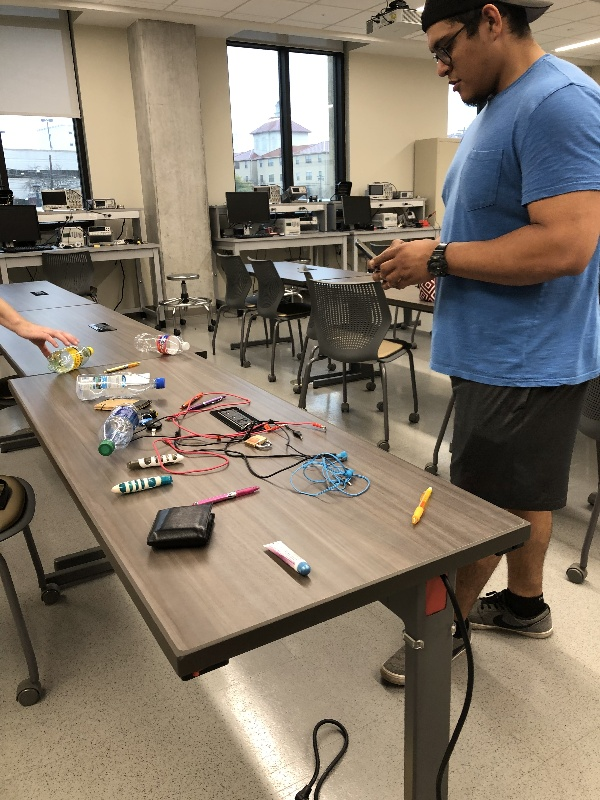bottle: (96, 401, 149, 461), (70, 373, 171, 404), (128, 327, 196, 360), (44, 343, 100, 377)
